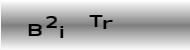2: (44, 14, 59, 28)
B: (27, 23, 44, 37)
T: (88, 13, 103, 28)
i: (58, 24, 66, 40)
r: (102, 18, 114, 30)
